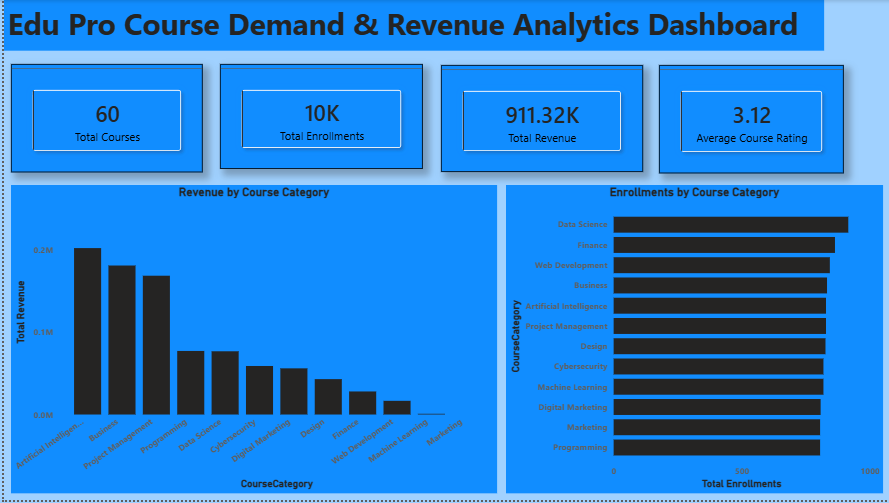

The dashboard page shown, as its layout file describes it:
{"tool":"powerbi","page":{"name":"Page 1","canvas":[1280,720],"ordinal":0},"visuals":[{"type":"cardVisual","fields":{"Data":["Sheet1.Total Revenue"]},"box":[629.3,93.6,290.9,154.1],"z":0},{"type":"cardVisual","fields":{"Data":["Sheet1.Total Enrollments"]},"box":[311,92.2,292.3,151.2],"z":1},{"type":"cardVisual","fields":{"Data":["Sheet1.Total Courses"]},"box":[10.1,92.2,276.5,155.5],"z":2},{"type":"cardVisual","fields":{"Data":["Sheet1.Average Course Rating"]},"box":[943.2,93.6,266.4,155.5],"z":3},{"type":"textbox","box":[0,0,1180.8,73.4],"z":4},{"type":"clusteredColumnChart","title":"Revenue by Course Category","fields":{"Category":["Sheet1.CourseCategory"],"Y":["Sheet1.Total Revenue"]},"box":[10.1,266.4,699.8,443.5],"z":5},{"type":"clusteredBarChart","title":" Enrollments by Course Category","fields":{"Category":["Sheet1.CourseCategory"],"Y":["Sheet1.Total Enrollments"]},"box":[722.9,266.4,542.9,443.5],"z":6}]}

Visuals, with their boxes in screenshot pixels (x1, y1, x2, y2), scaled from the page's 1280x720 canvas onto the 889x503 screenshot:
cardVisual - Sheet1.Total Revenue: [437, 65, 639, 173]
cardVisual - Sheet1.Total Enrollments: [216, 64, 419, 170]
cardVisual - Sheet1.Total Courses: [7, 64, 199, 173]
cardVisual - Sheet1.Average Course Rating: [655, 65, 840, 174]
textbox: [0, 0, 820, 51]
"Revenue by Course Category" clusteredColumnChart: [7, 186, 493, 496]
" Enrollments by Course Category" clusteredBarChart: [502, 186, 879, 496]
